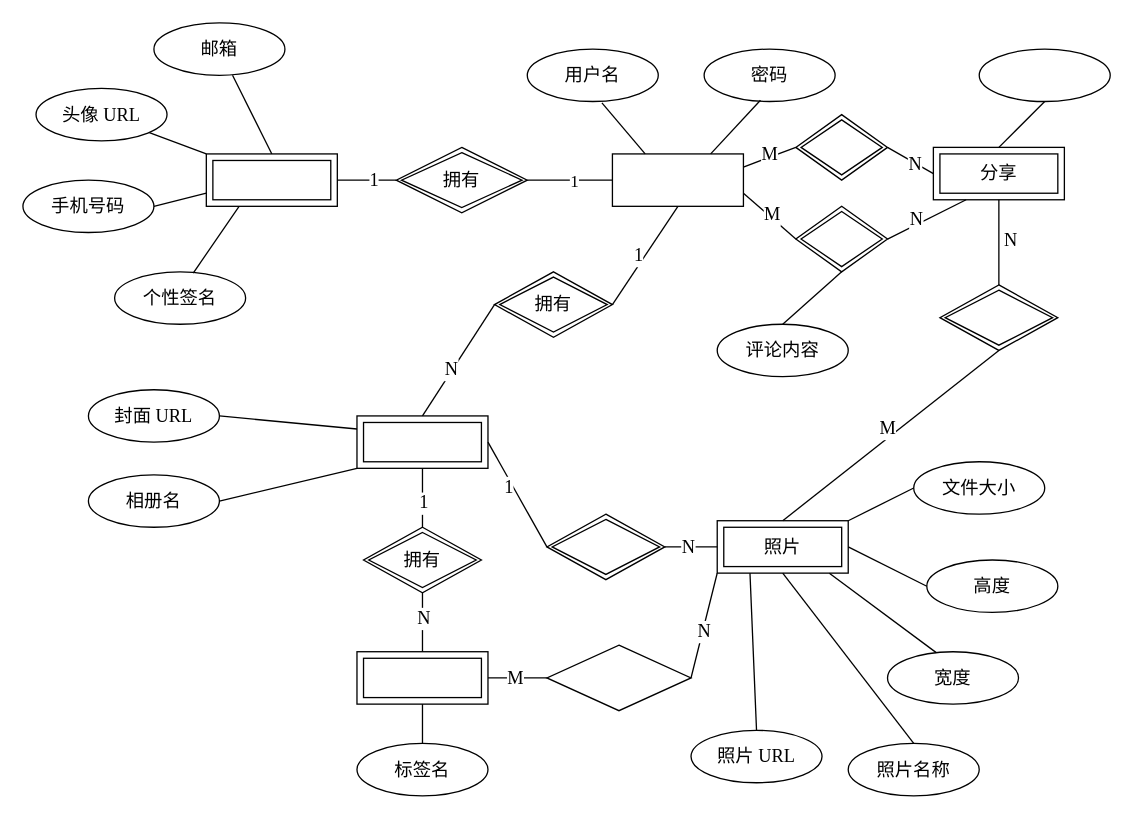
Image size: 1133x819. Some labels were removed from this diagram. The shapes that lost their labels are listed below. From the top down, each one's centre as x and y in pixels, then its label:
the point at 1044,75: 内容
the point at 841,146: 喜爱
the point at 271,179: 用户资料
the point at 677,179: 用户
the point at 841,238: 评论
the point at 998,317: 发布
the point at 422,441: 相册
the point at 605,546: 包含
the point at 422,677: 标签
the point at 618,677: 标注
